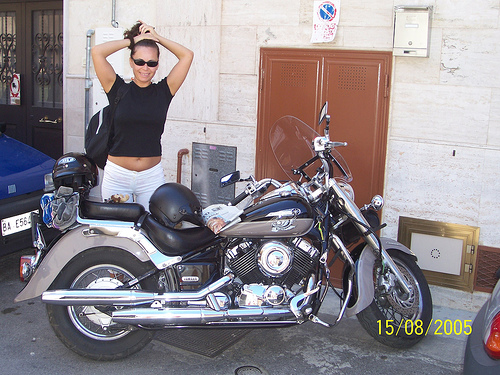without_mask: (129, 42, 160, 83)
